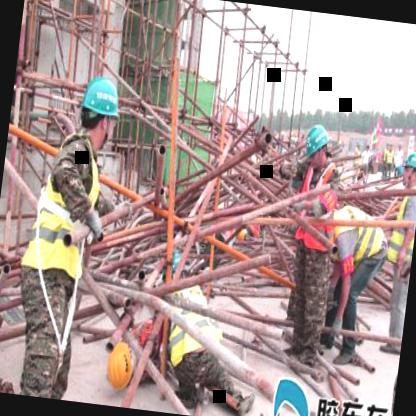helmet: (74, 69, 125, 149), (101, 334, 140, 398), (300, 117, 334, 170), (397, 149, 416, 193)
